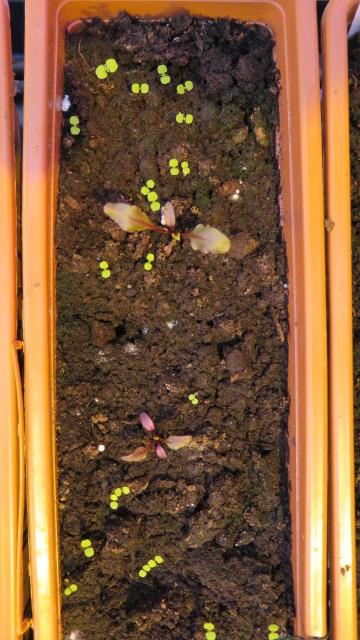weed: (93, 54, 118, 79), (155, 60, 170, 86), (79, 536, 94, 559), (174, 77, 193, 94), (128, 79, 149, 94), (68, 112, 80, 137), (173, 109, 193, 124), (166, 154, 179, 177), (97, 257, 110, 279), (142, 249, 154, 272), (179, 157, 190, 175), (186, 391, 198, 406)
